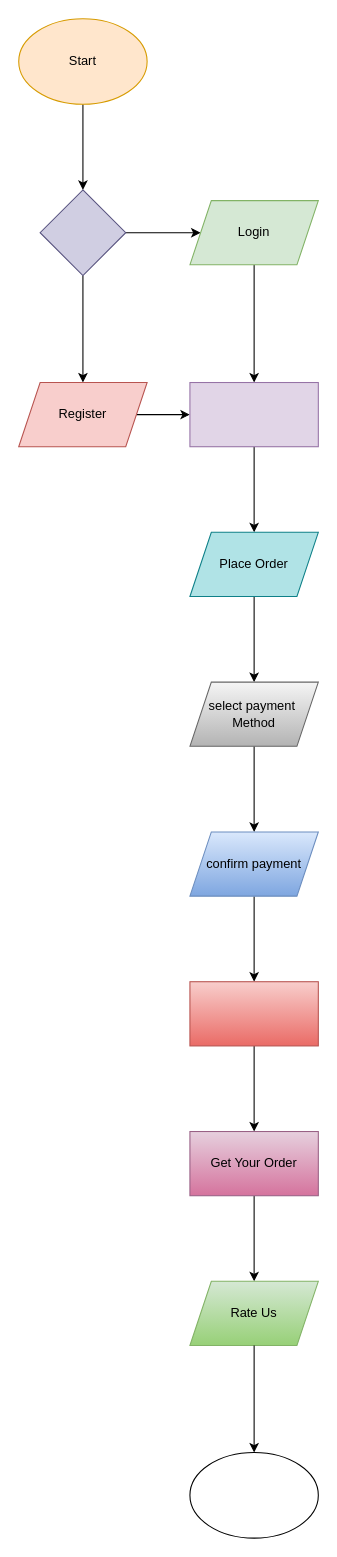
This 337x1557 diagram has some shape labels left out. The shapes that lost their labels are listed below. From the top down, each one's centre as x and y in pixels, then its label:
At [82,232]: "New User?".
At [253,414]: "Select the dish or item".
At [253,1013]: "Track Your Order".
At [253,1494]: "Stop".
